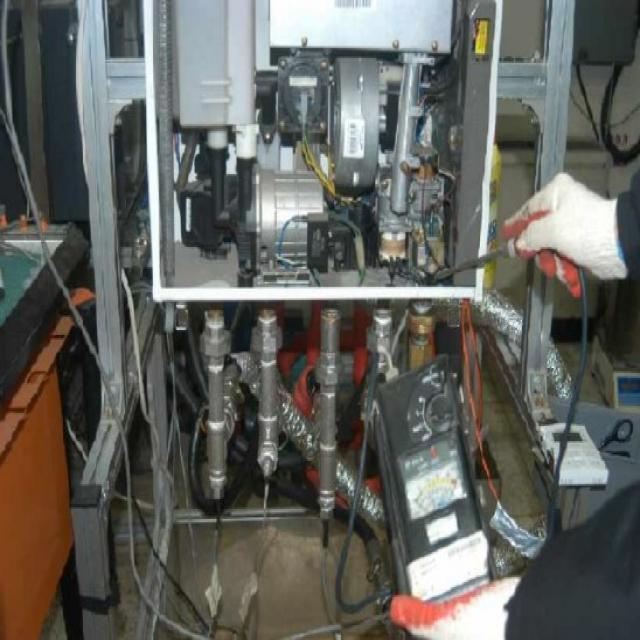Boiler: (112, 0, 550, 348)
